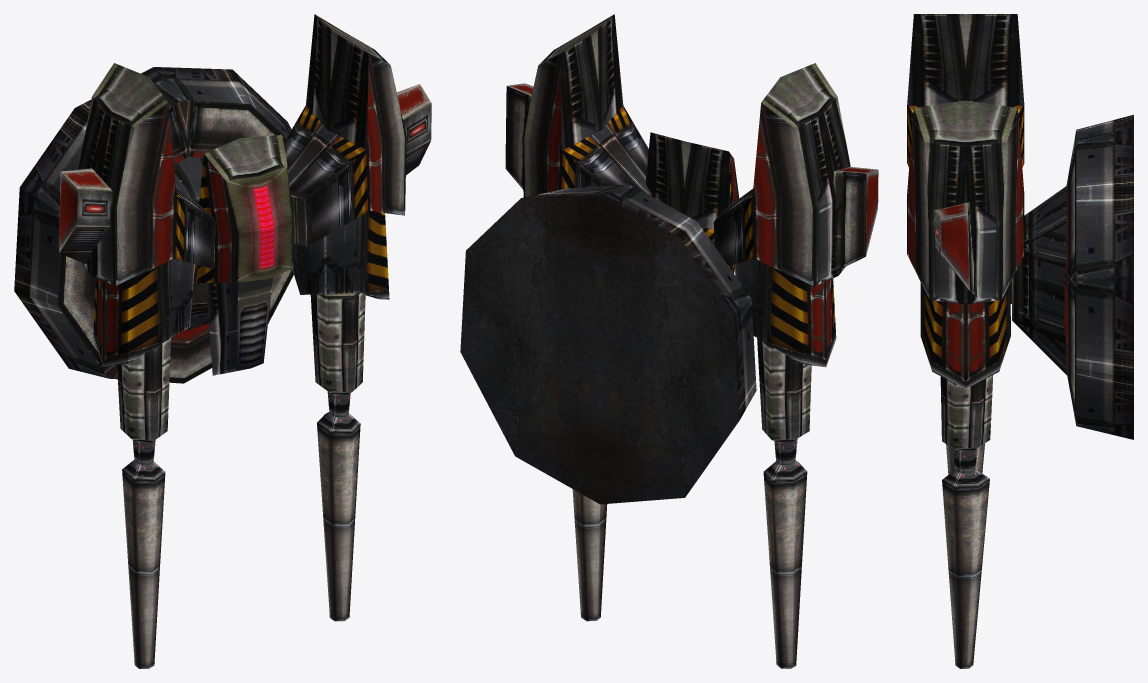
Rendered from turret-04.obj.
3 renders of one model, left to right at view 1: azimuth 30°, elevation 25°; view 2: azimuth 150°, elevation 25°; view 3: azimuth 270°, elevation 25°, orthographic. The views are drawn at different scales.
Parts seen in each view (by area): view 1: turret_04; view 2: turret_04; view 3: turret_04.
Boxes of the visible parts, x1,y1,x2,y2 form: turret_04: [14, 14, 431, 668]; turret_04: [460, 14, 878, 668]; turret_04: [907, 14, 1133, 668].
Bounding box in the file's own units: 4.94 × 7.69 × 2.81.
1 material, 1 textured.
